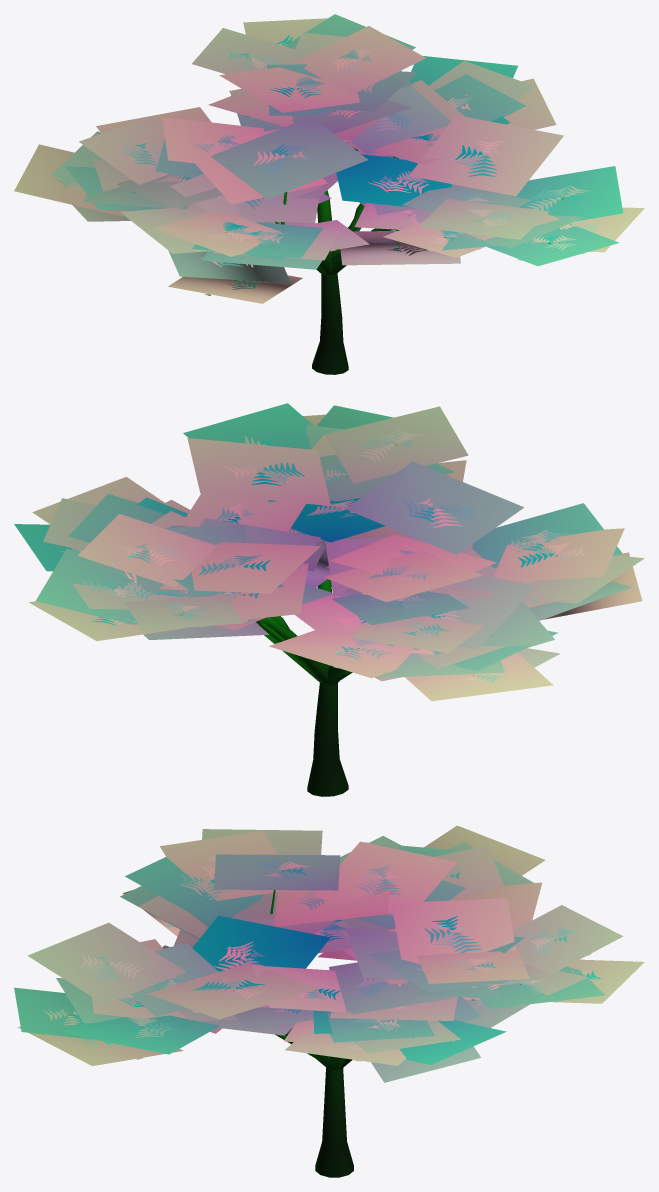
Rendered from flame_2.glb.
3 views of the same model, one above another, from view 1: azimuth 30°, elevation 25°; view 2: azimuth 150°, elevation 25°; view 3: azimuth 270°, elevation 25° (orthographic). The views are drawn at different scales.
Visible parts, largest first — view 1: mid, near; view 2: mid, near; view 3: mid, near.
Boxes of the visible parts, <box> form: mid: <box>14,14,644,303</box>; near: <box>53,34,599,374</box>; mid: <box>14,403,644,701</box>; near: <box>61,430,585,796</box>; mid: <box>14,825,644,1082</box>; near: <box>43,852,601,1177</box>.
Size of the model in its own units: 12.6 by 6.23 by 13.19.
